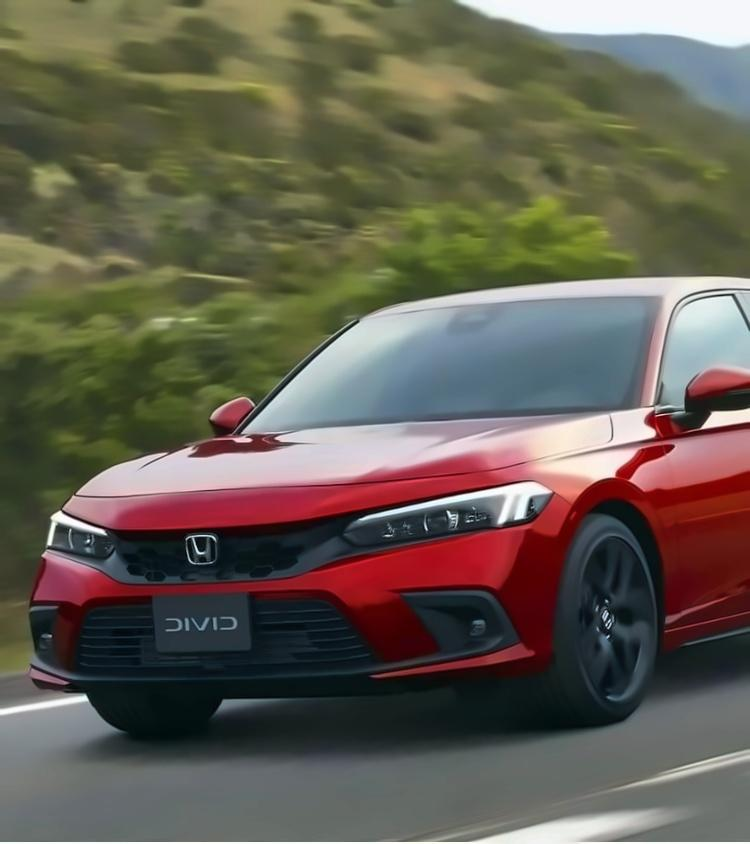Car hood: (68, 407, 620, 502)
Fender - -F-L-: (509, 383, 676, 650)
Front bumper: (20, 476, 586, 703)
Headlight - -L-: (340, 476, 557, 552)
Headlight - -R-: (39, 506, 115, 562)
Passenger-s door - -F-L-: (647, 272, 750, 662)
Side bumper - -L-: (652, 562, 750, 674)
Side mirror - -L-: (657, 364, 750, 435)
Side mirror - -R-: (199, 396, 262, 439)
